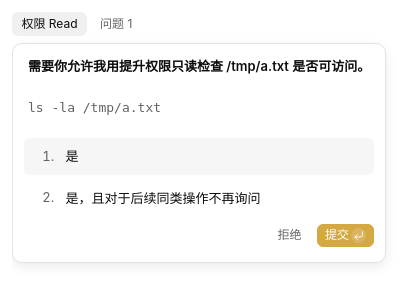
Test: PendingActionSurface › shows outer tabs only when multiple pending actions are available
The image size is (403, 283).
Expected: the element named "待处理事项" is shown, [12,12,142,36]
Expected: the text "Which branch?" is not shown
Step 1. Click the tab "问题 1" → (116, 24), box [91,12,142,36]
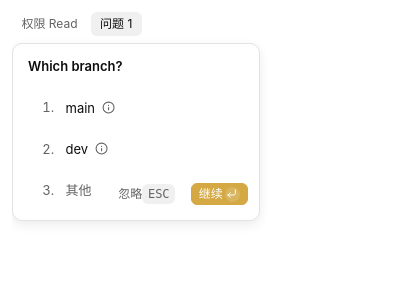
Now the text "Which branch?" is shown, box [28,55,123,78]
